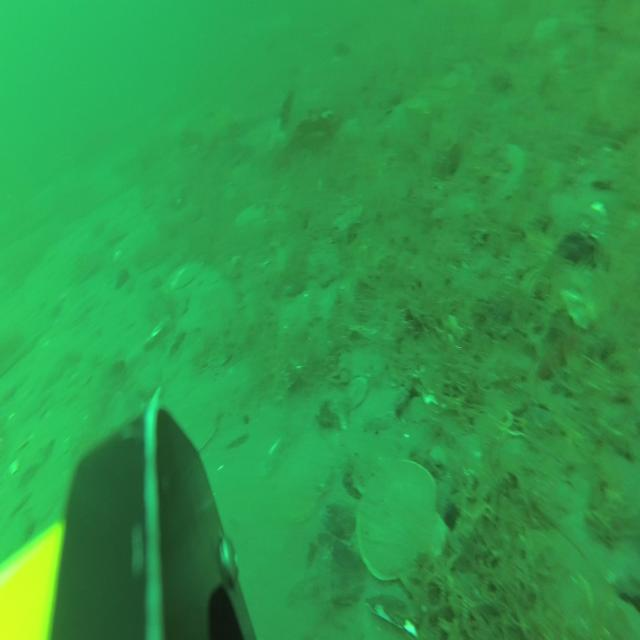scallop: (359, 456, 447, 596), (283, 439, 332, 520), (171, 393, 220, 457), (484, 142, 524, 204), (165, 258, 202, 290)
